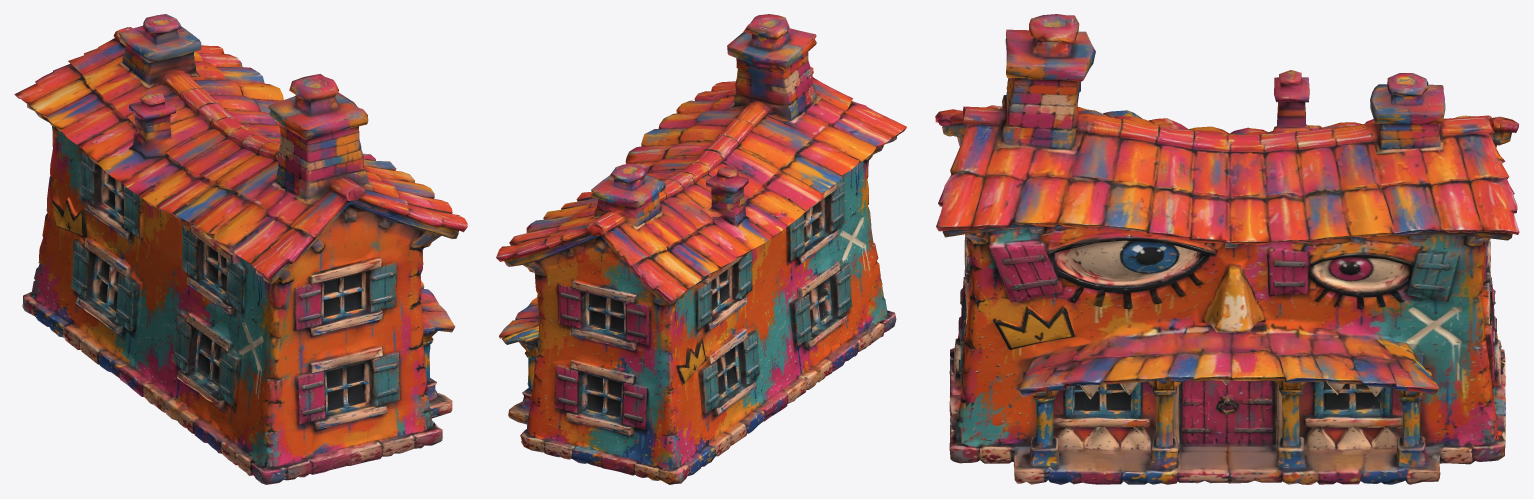
The model's file is house_wide.glb.
The picture shows the model from 3 angles, left to right: view 1: azimuth 30°, elevation 25°; view 2: azimuth 150°, elevation 25°; view 3: azimuth 270°, elevation 25°; orthographic projection. The views are drawn at different scales.
Visible parts, largest first — view 1: house_wide; view 2: house_wide; view 3: house_wide.
Part boxes in pixels (x1,y1,x2,y2): house_wide: [14, 14, 467, 484]; house_wide: [496, 14, 906, 484]; house_wide: [935, 14, 1519, 484].
Size of the model in its own units: 6.63 by 9 by 12.
1 material, 1 textured.
